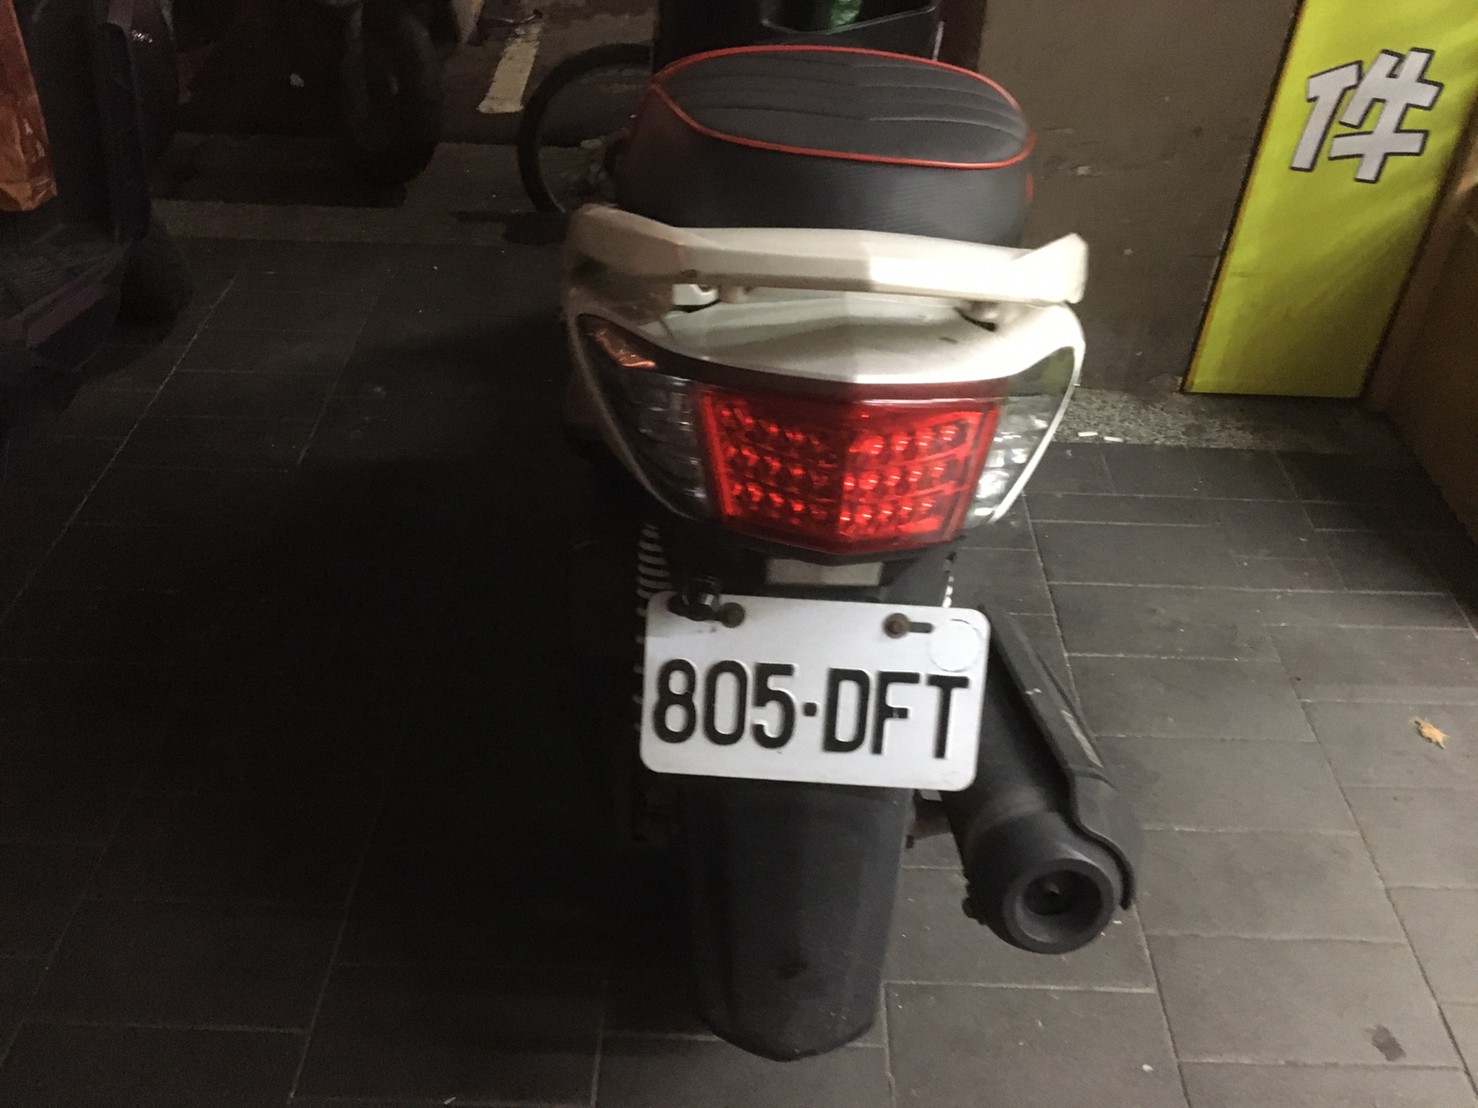LP: (634, 578, 993, 794)
